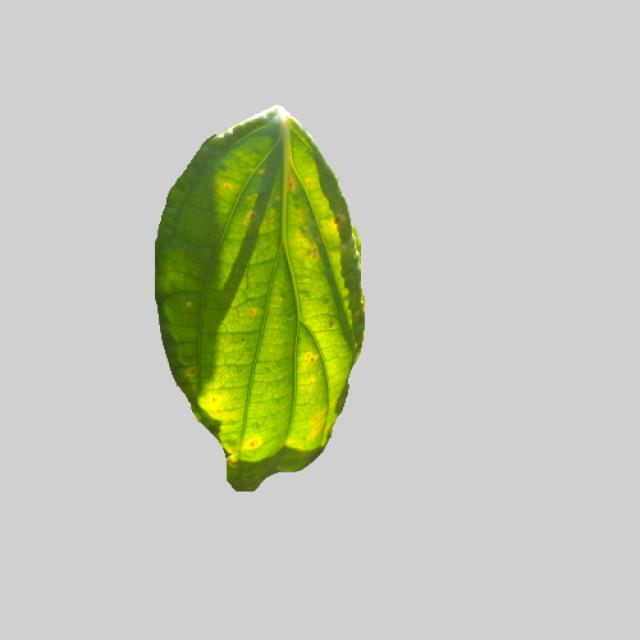yellow-mottle-virus: (146, 106, 370, 484)
